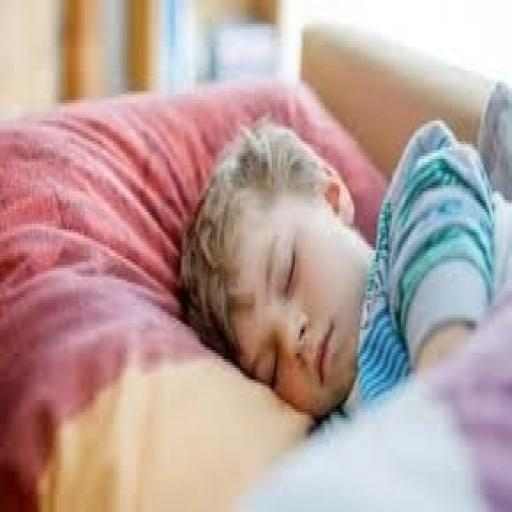sleeping: (177, 77, 510, 509)
